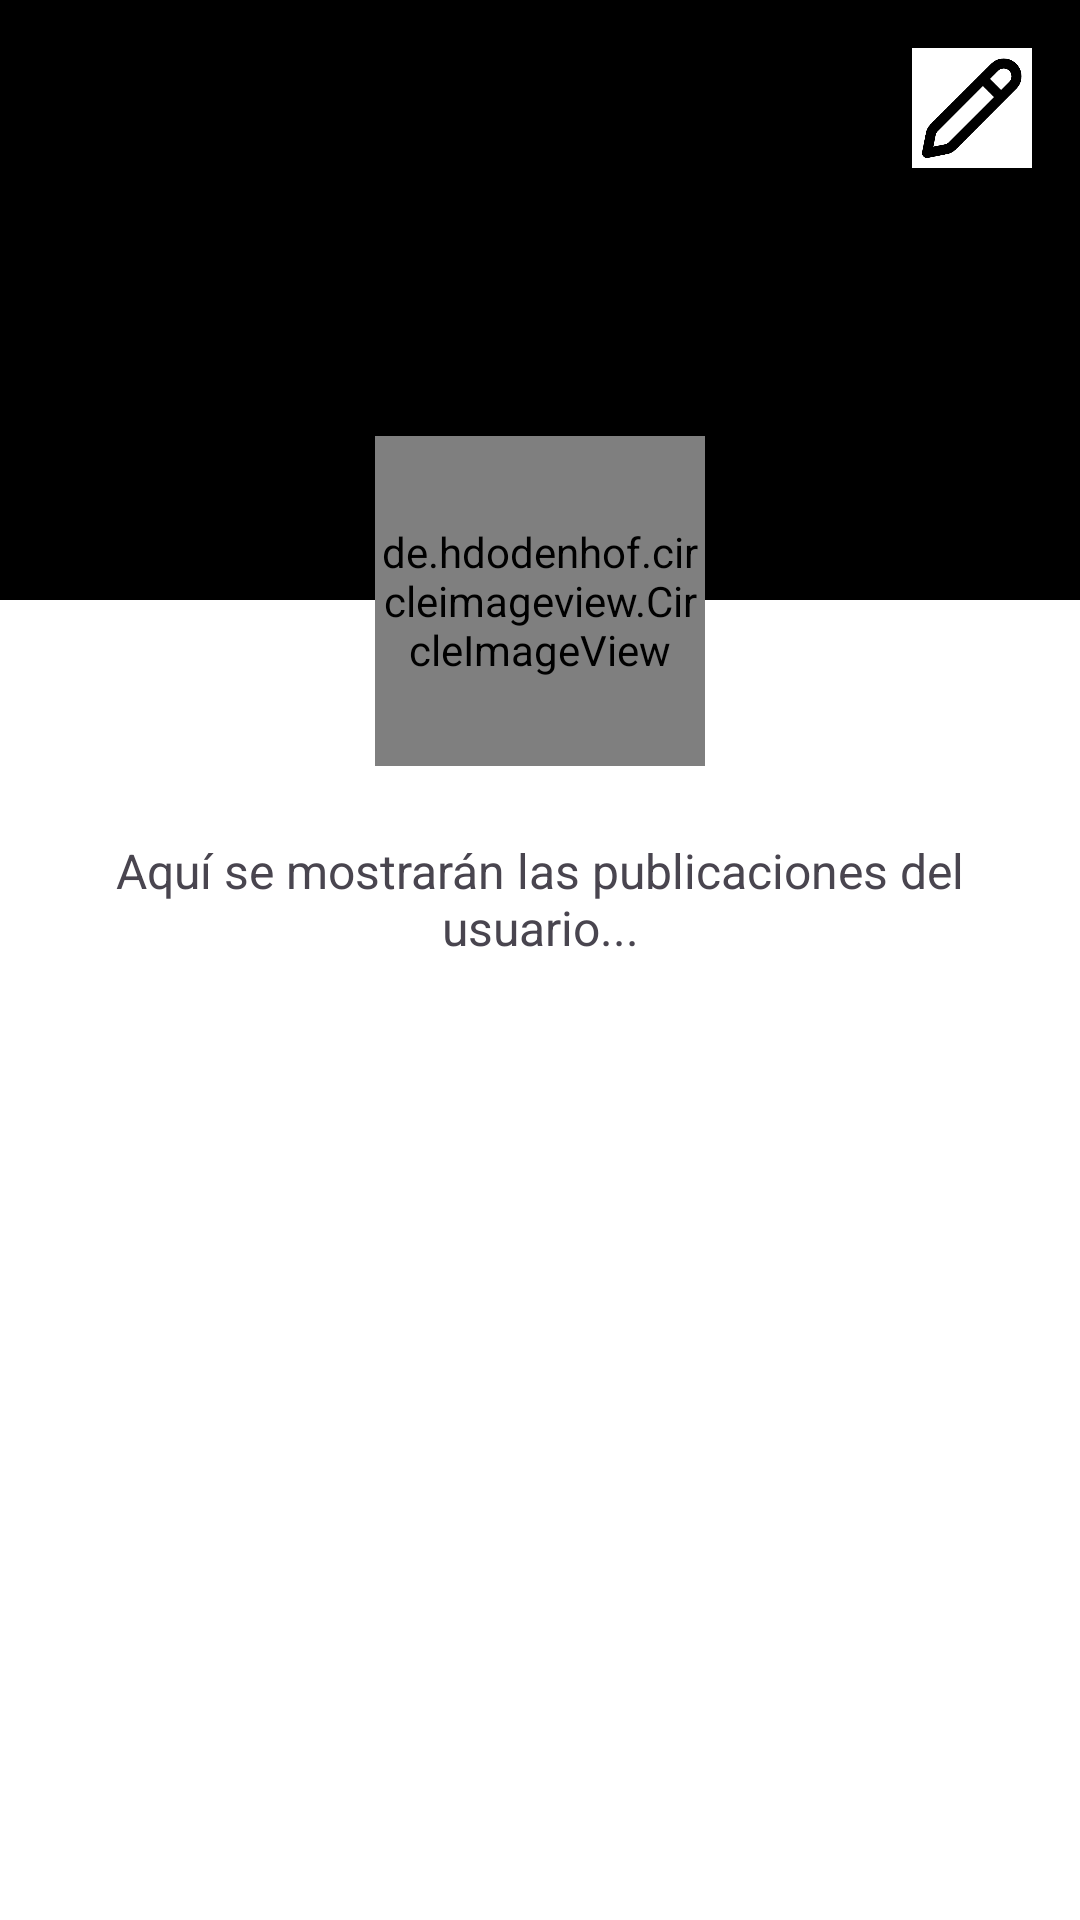

Named icons in this screenshot (1080×1920) and their centers, point (x, y):
Editar perfil: point (972, 108)
